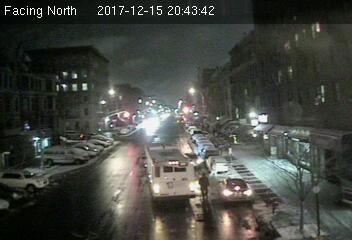bus: (141, 142, 199, 202)
car: (217, 178, 252, 202), (207, 155, 228, 172)
